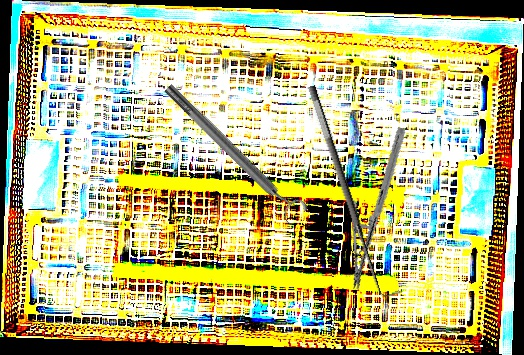Fixation Ring: (158, 76, 310, 228)
Hook Surgical: (304, 79, 402, 304)
Needle Holder: (319, 126, 438, 291)
